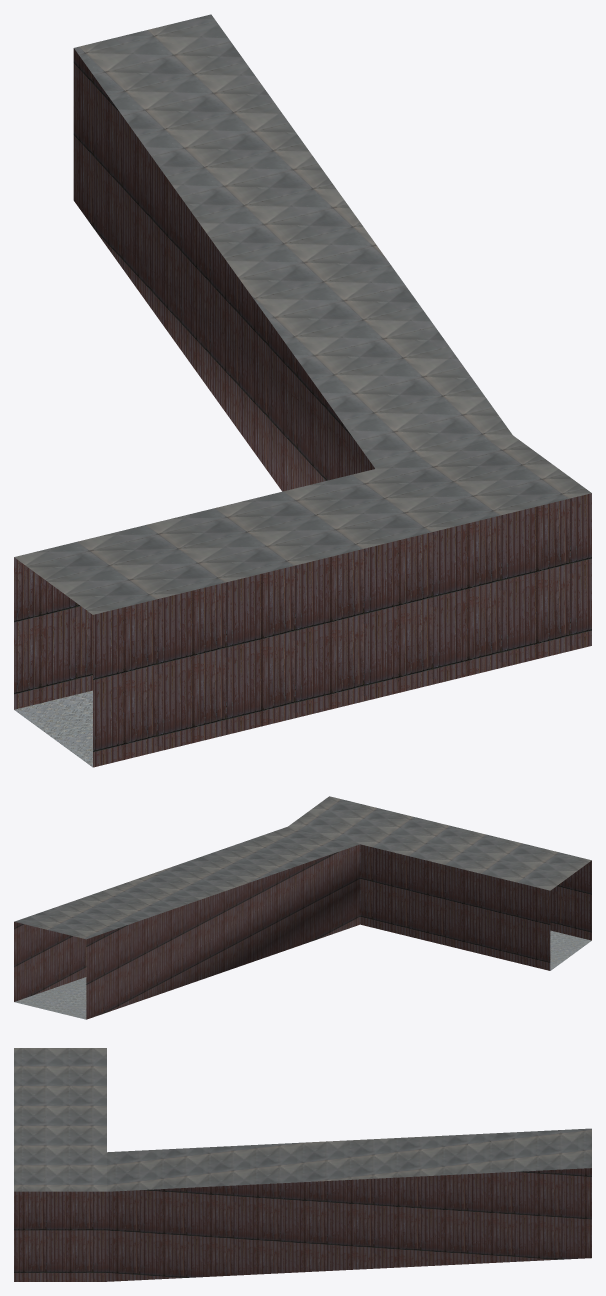
The model's file is amory_corridor.FBX.
3 views of the same model, one above another, from view 1: azimuth 30°, elevation 25°; view 2: azimuth 150°, elevation 25°; view 3: azimuth 270°, elevation 25° (orthographic). The views are drawn at different scales.
Visible parts, largest first — view 1: Armoury_Walkway; view 2: Armoury_Walkway; view 3: Armoury_Walkway.
Boxes of the visible parts, bbox=[...] form: Armoury_Walkway: bbox=[14, 14, 591, 767]; Armoury_Walkway: bbox=[14, 796, 591, 1019]; Armoury_Walkway: bbox=[14, 1048, 591, 1281].
Size of the model in its own units: 265 by 103 by 370.
Materials: 3 (3 with a texture image).
